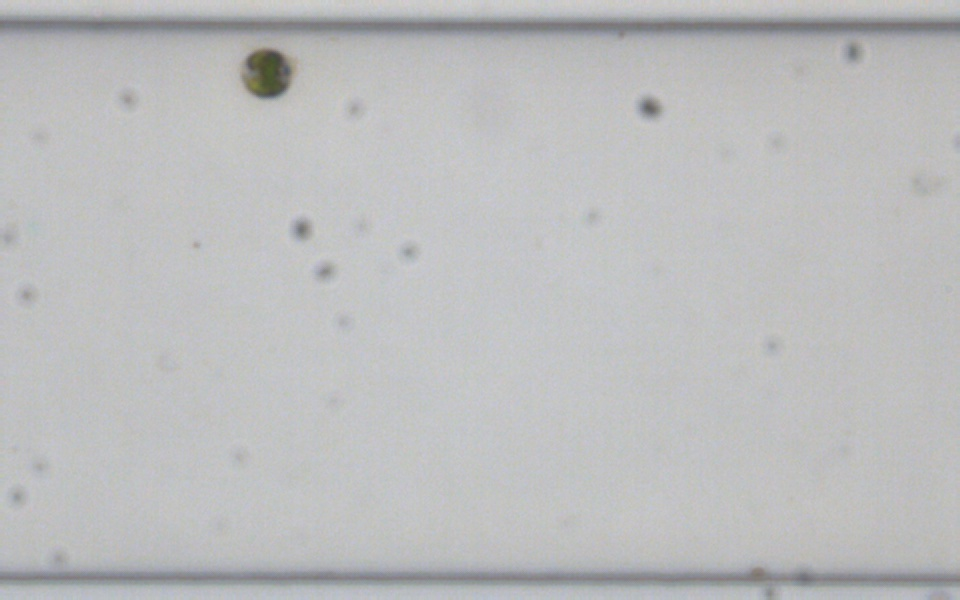Haematococcus: (237, 45, 295, 100)
